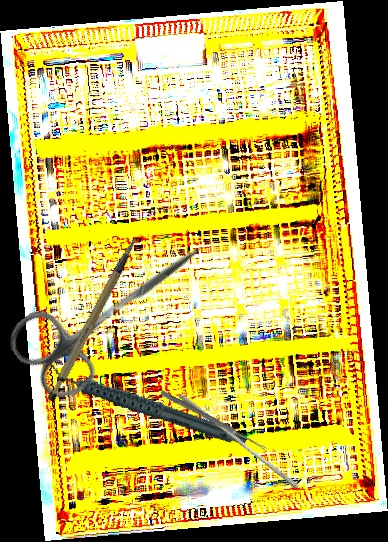Handpiece: (48, 326, 248, 483)
Iris Scissors: (0, 206, 228, 410)
Pusher: (174, 392, 303, 491)
Scalpel Handle: (27, 236, 162, 405)
Surgical Spoon: (159, 390, 269, 452)
